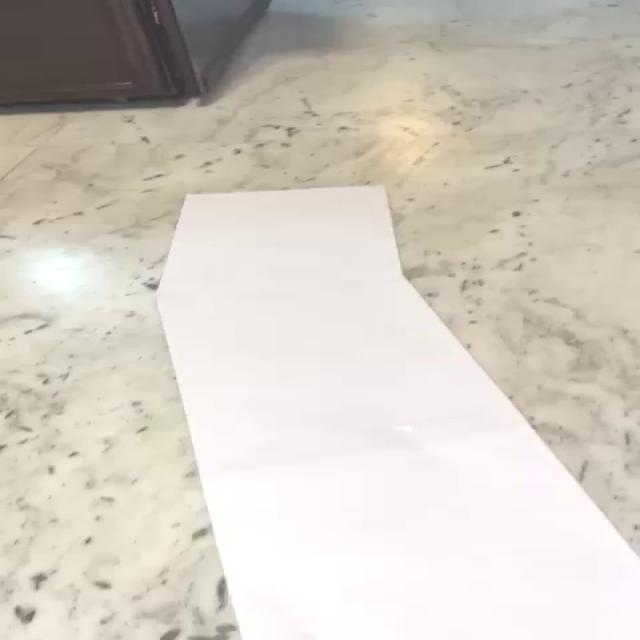road: (157, 187, 637, 640)
